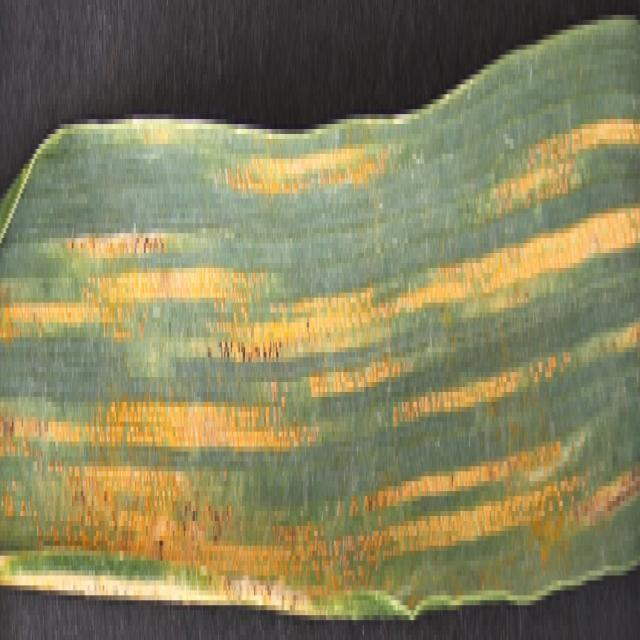leaf rust: (2, 114, 639, 590)
